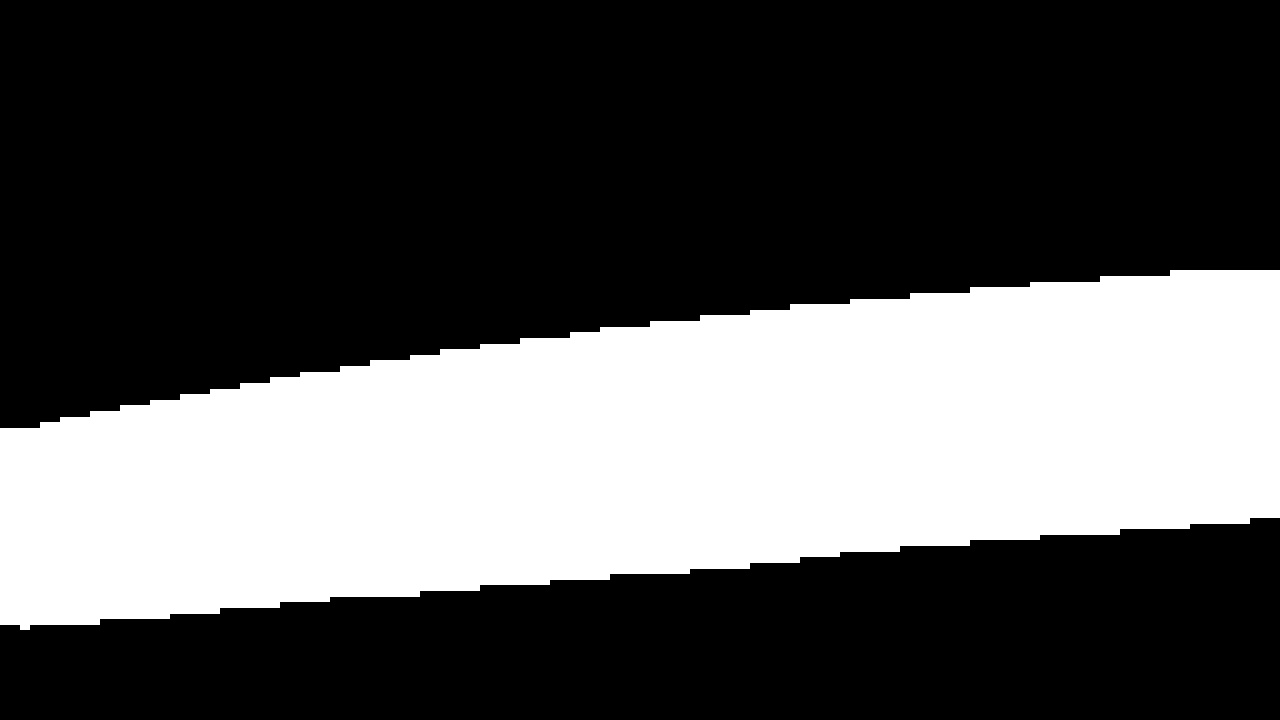Turbine: (11, 240, 1275, 640)
